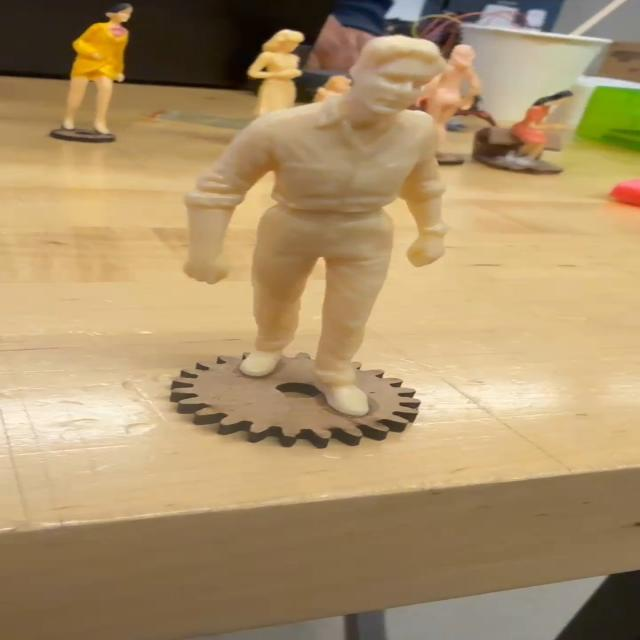Unauthorized: (182, 31, 476, 420)
